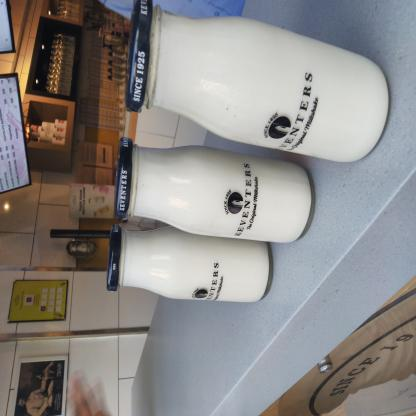bottle: (190, 164, 313, 416), (129, 150, 213, 416), (85, 139, 147, 365)
